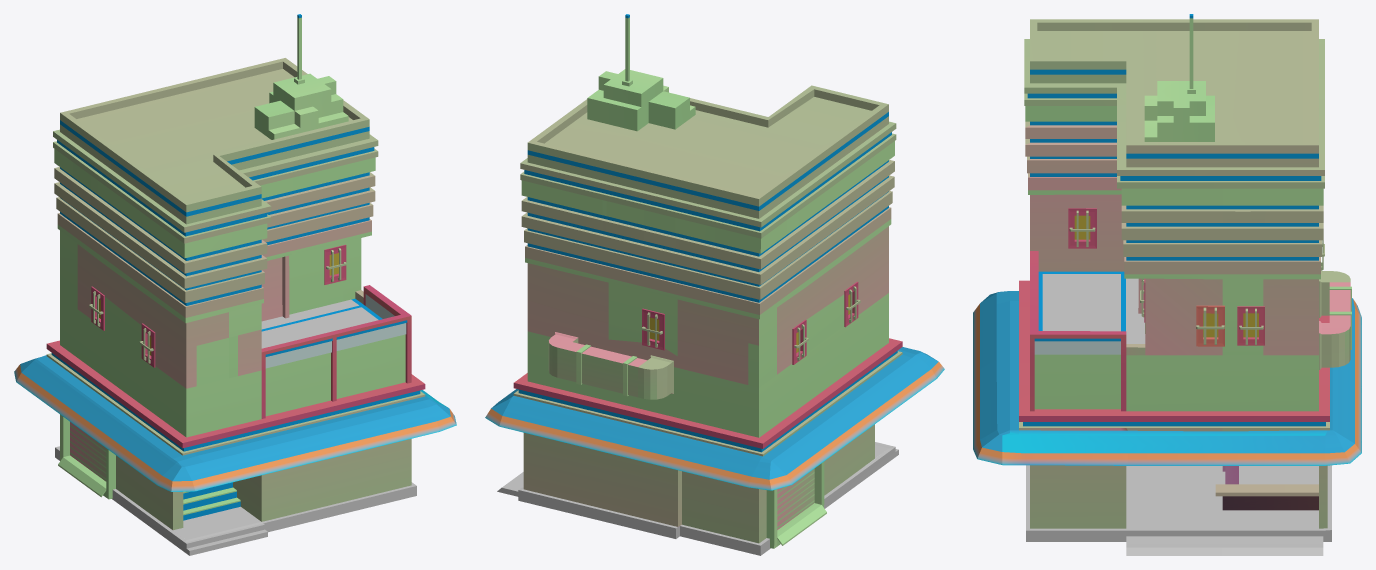
The model's file is Building_AptCornerStore.fbx.
3 renders of one model, left to right at view 1: azimuth 30°, elevation 25°; view 2: azimuth 150°, elevation 25°; view 3: azimuth 270°, elevation 25°, orthographic. The views are drawn at different scales.
Parts seen in each view (by area): view 1: CubeHome.001; view 2: CubeHome.001; view 3: CubeHome.001.
Part boxes in pixels (<box>): CubeHome.001: <box>14,14,456,555</box>; CubeHome.001: <box>485,14,944,555</box>; CubeHome.001: <box>973,14,1361,555</box>.
Bounding box in the file's own units: 968 × 1380 × 968.
